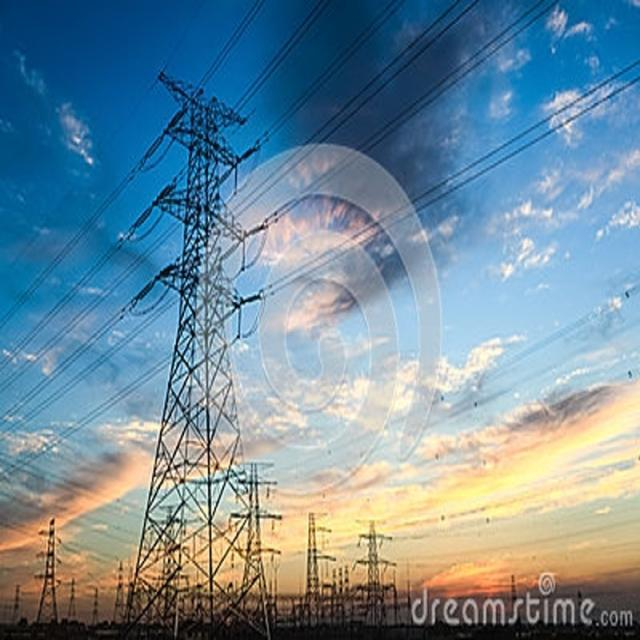non-critical vegetation: (132, 66, 274, 620), (30, 515, 66, 628), (354, 513, 391, 616), (296, 508, 328, 611)
